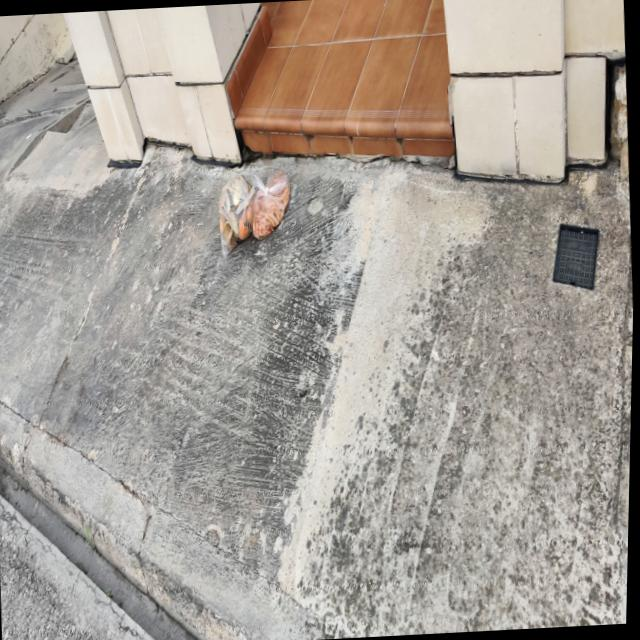Organic Waste -White Bags-: (217, 167, 291, 257)
